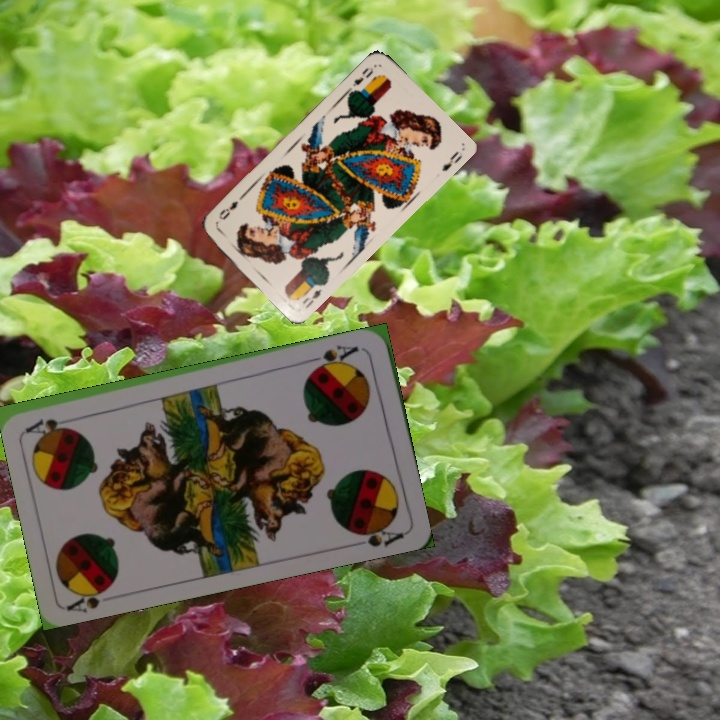EO: (348, 63, 376, 95), (298, 284, 325, 311)
SA: (63, 579, 118, 615), (307, 340, 361, 373)
